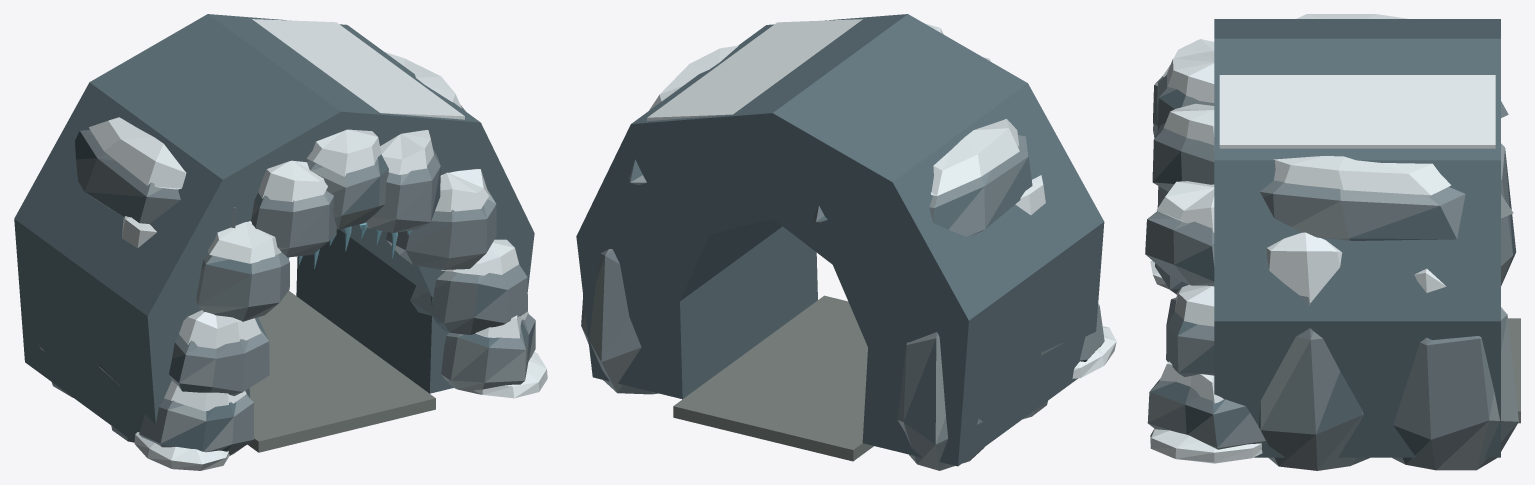
Rendered from HERO_03_FrozenCaveEntrance.glb.
3 renders of one model, left to right at view 1: azimuth 30°, elevation 25°; view 2: azimuth 150°, elevation 25°; view 3: azimuth 270°, elevation 25°, orthographic. The views are drawn at different scales.
Parts seen in each view (by area): view 1: HERO_03_FrozenCaveEntrance; view 2: HERO_03_FrozenCaveEntrance; view 3: HERO_03_FrozenCaveEntrance.
Boxes of the visible parts, left/top/right/bottom form: HERO_03_FrozenCaveEntrance: left=14, top=14, right=547, bottom=470; HERO_03_FrozenCaveEntrance: left=576, top=14, right=1116, bottom=470; HERO_03_FrozenCaveEntrance: left=1145, top=14, right=1520, bottom=470.
Size of the model in its own units: 7.26 by 5.6 by 5.64.
